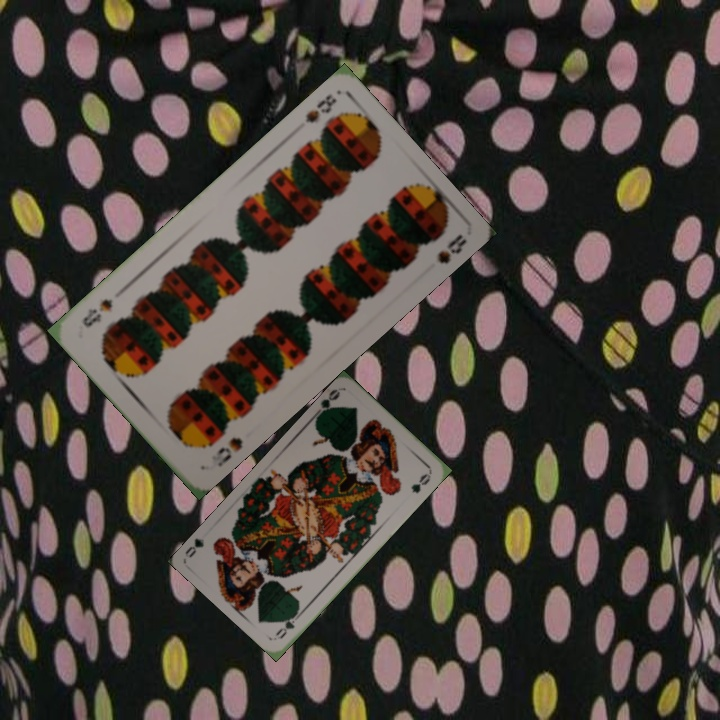GO: (271, 606, 305, 642), (310, 385, 343, 420)
S8: (203, 432, 245, 471), (301, 89, 340, 126)
